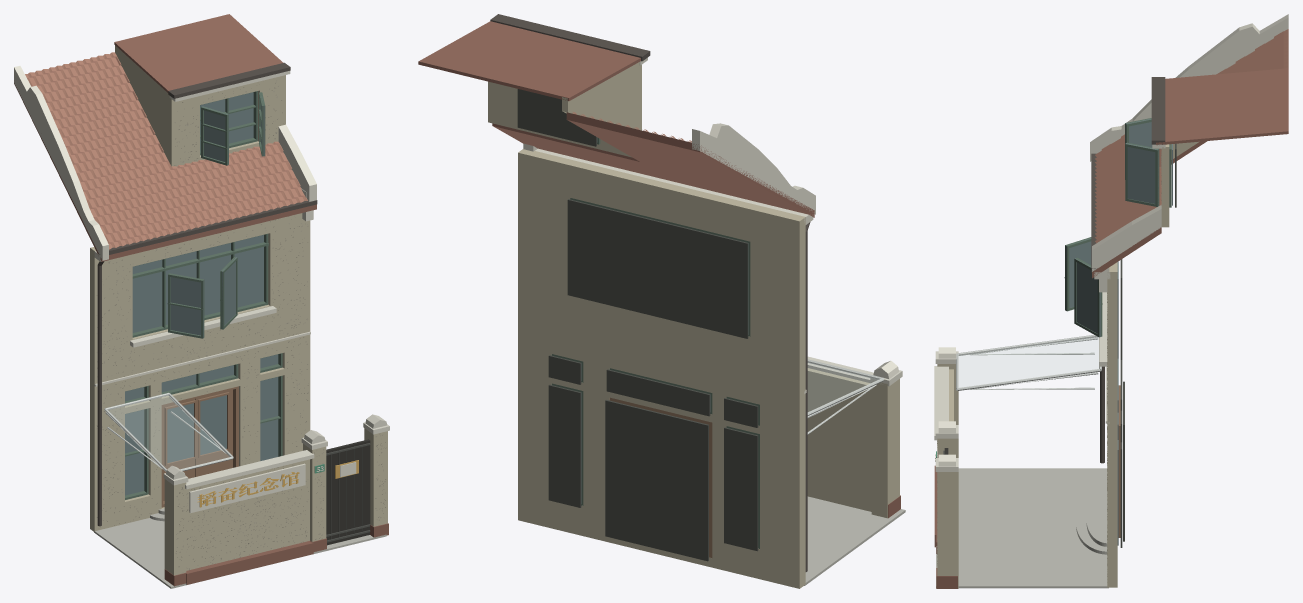
The model's file is huangpu-wanyi-taofen-museum-no53-south-front-raw.glb.
The picture shows the model from 3 angles, left to right: view 1: azimuth 30°, elevation 25°; view 2: azimuth 150°, elevation 25°; view 3: azimuth 270°, elevation 25°; orthographic projection. The views are drawn at different scales.
Parts seen in each view (by area): view 1: 万宜坊韬奋纪念馆53号院门与南立面; view 2: 万宜坊韬奋纪念馆53号院门与南立面; view 3: 万宜坊韬奋纪念馆53号院门与南立面.
Part boxes in pixels (x1,y1,x2,y2): 万宜坊韬奋纪念馆53号院门与南立面: [14, 14, 389, 588]; 万宜坊韬奋纪念馆53号院门与南立面: [418, 14, 905, 588]; 万宜坊韬奋纪念馆53号院门与南立面: [934, 14, 1288, 588].
Size of the model in its own units: 5.17 by 9.21 by 6.47.
